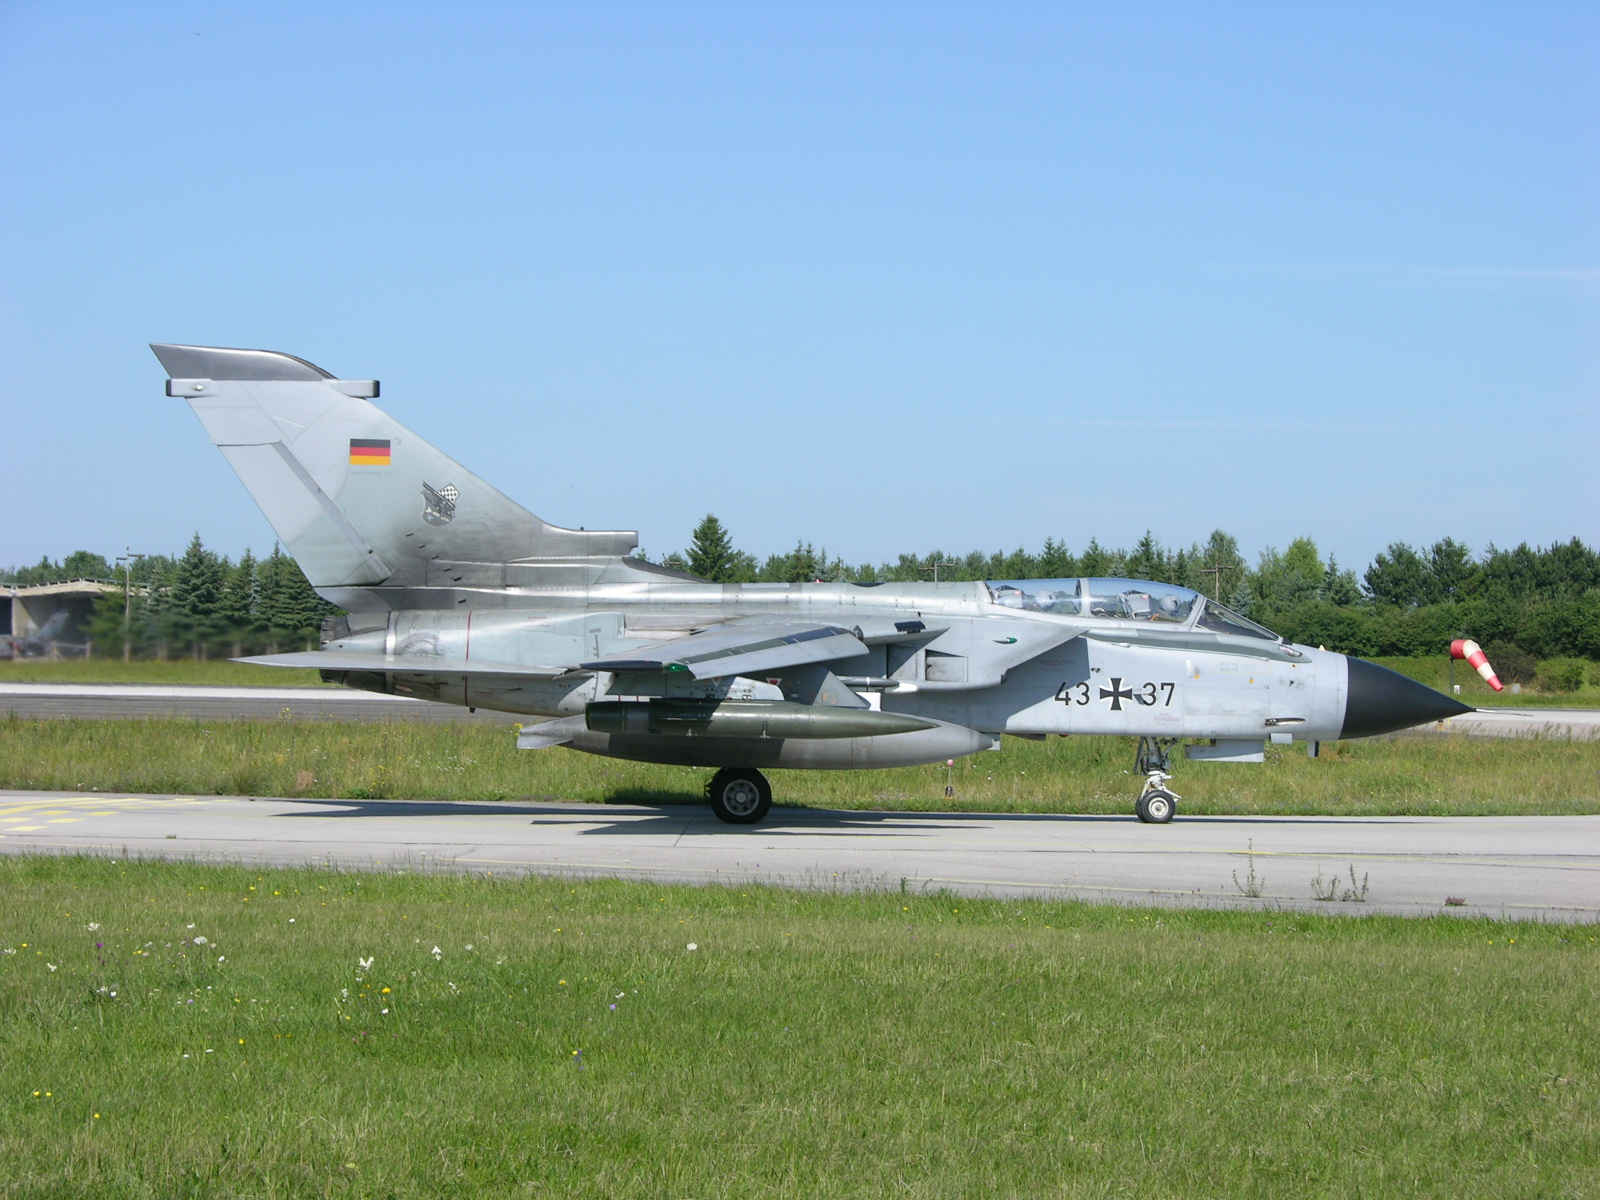Tornado: (147, 343, 1534, 824), (1, 609, 89, 661)
